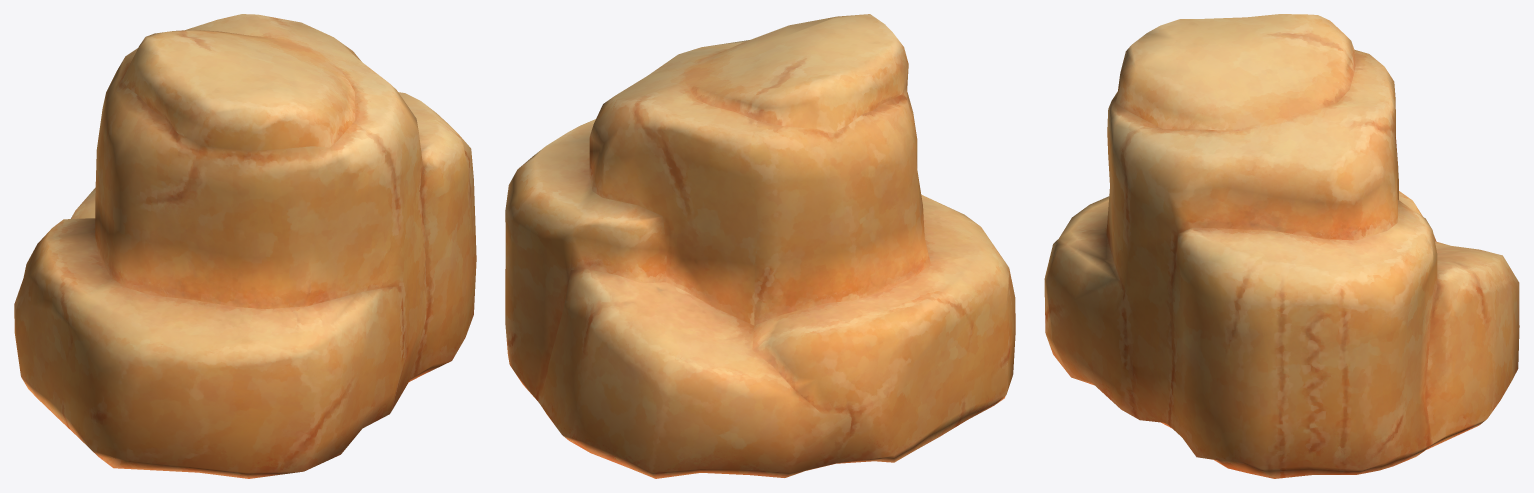
Rendered from rock.glb.
3 renders of one model, left to right at view 1: azimuth 30°, elevation 25°; view 2: azimuth 150°, elevation 25°; view 3: azimuth 270°, elevation 25°, orthographic. The views are drawn at different scales.
Visible parts, largest first — view 1: Wenet_rock_LOD0; view 2: Wenet_rock_LOD0; view 3: Wenet_rock_LOD0.
Boxes of the visible parts, box(x1,y1,x2,y2) form: Wenet_rock_LOD0: box(14, 14, 476, 478); Wenet_rock_LOD0: box(505, 14, 1015, 478); Wenet_rock_LOD0: box(1044, 14, 1519, 478).
Size of the model in its own units: 4.78 by 3.79 by 4.82.
1 material, 1 textured.
